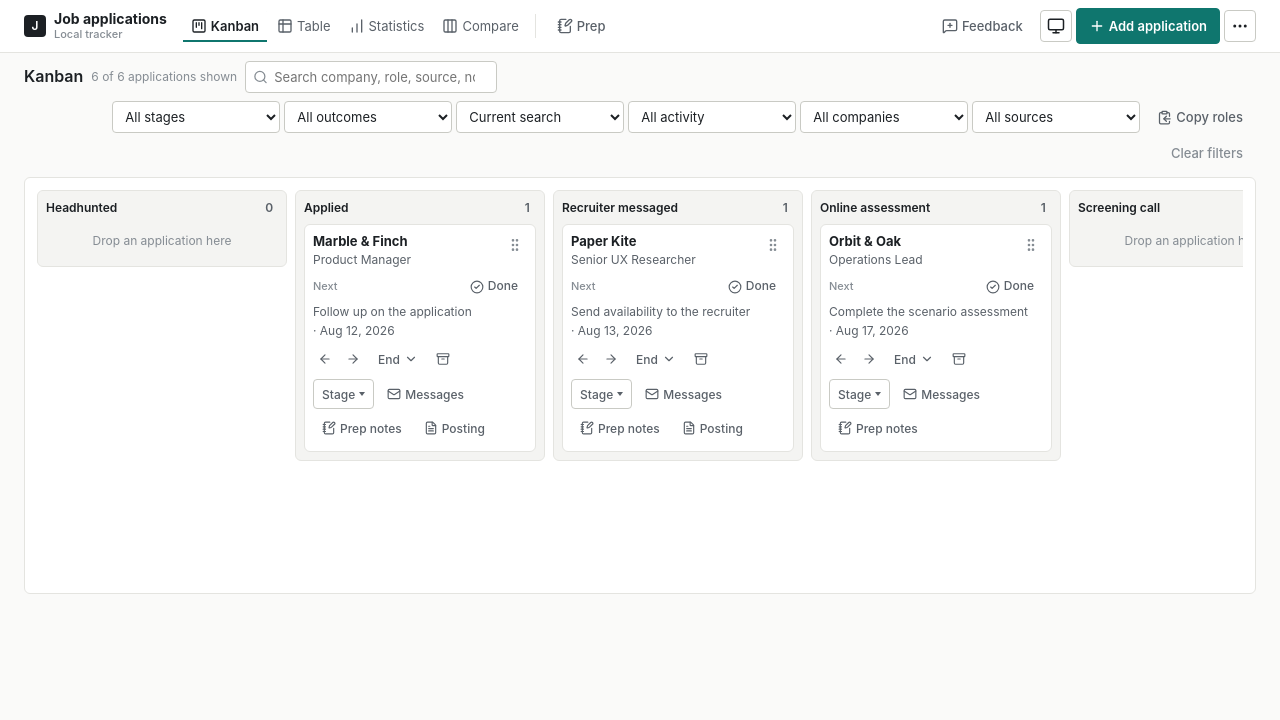
Scenario: job applications tracker › reaches prep notes from the header rather than from the view strip
This screenshot has width=1280, height=720.
Check: the element "Prep" is shown, box [183,10,618,42]
Click the button "Prep" at (581, 26), box [544,10,619,42]
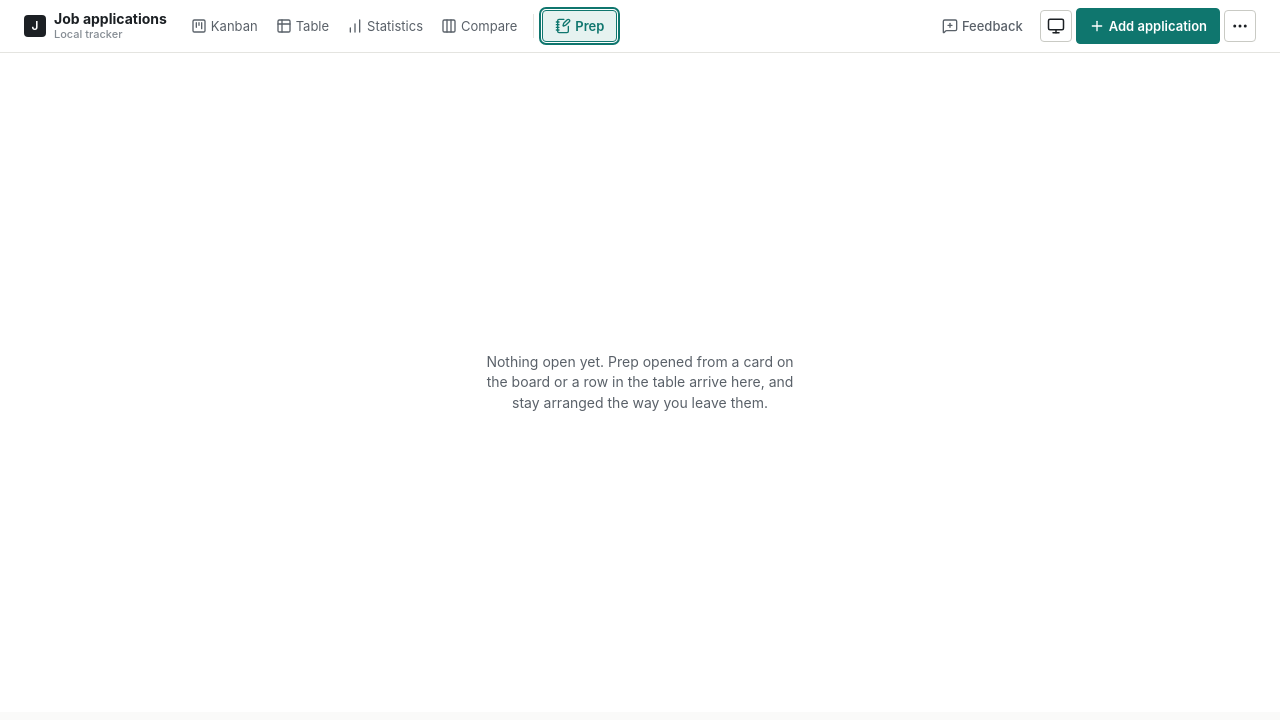
Check: the element "Prep" is shown, box [486,353,794,411]
Check: the button "Copy roles" is gone
